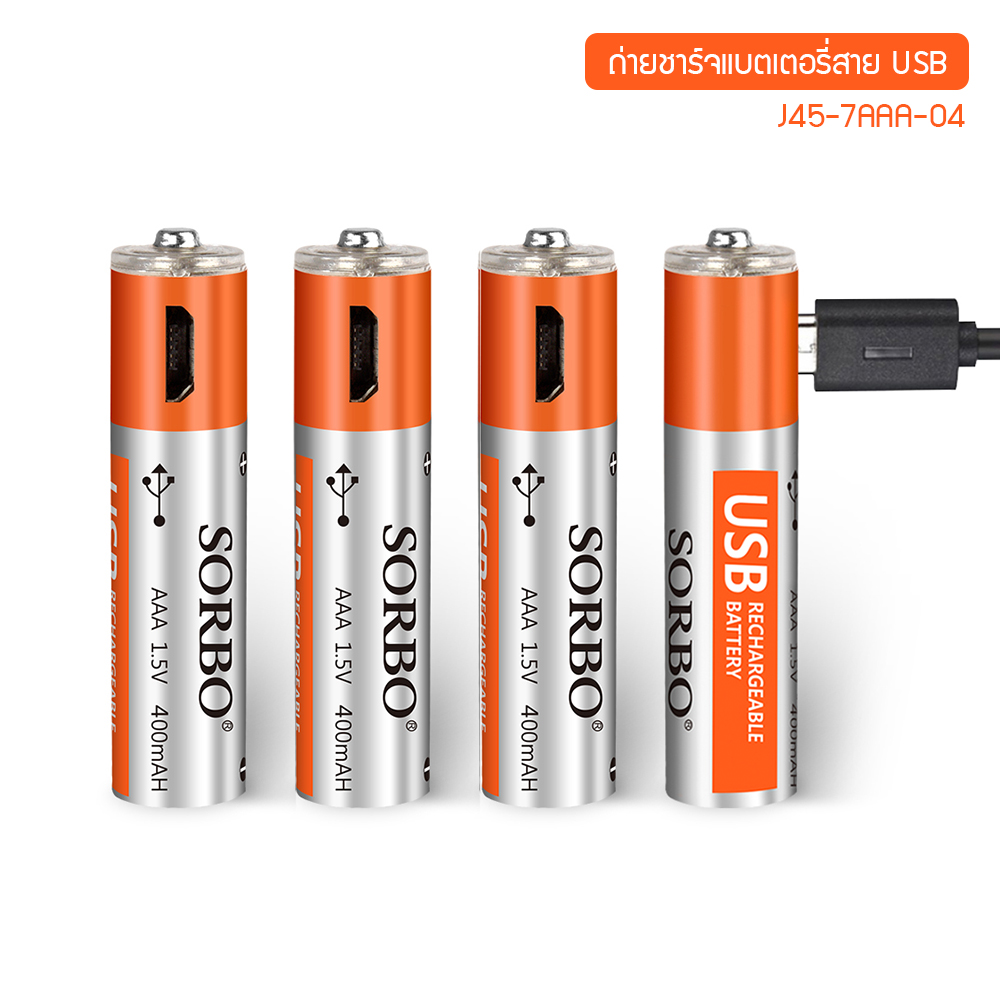Battery: (288, 223, 434, 813), (475, 223, 618, 811), (107, 224, 250, 811), (661, 227, 799, 812)
